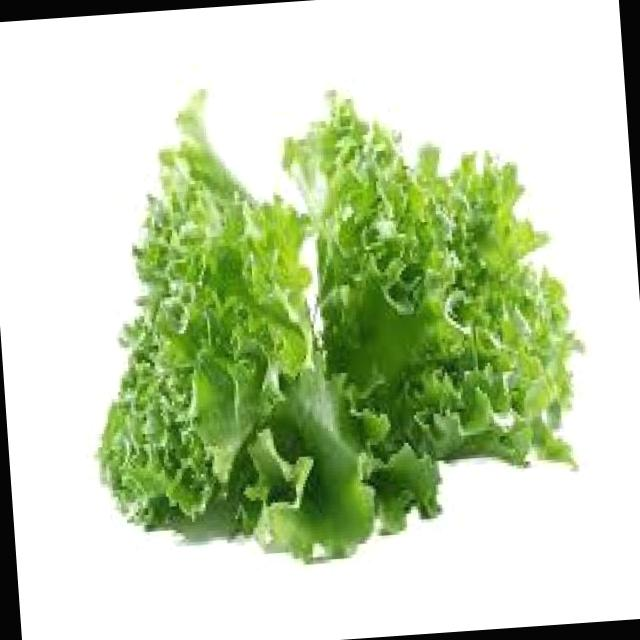Lettuce-Ready-to-Harvest: (99, 93, 572, 561)
